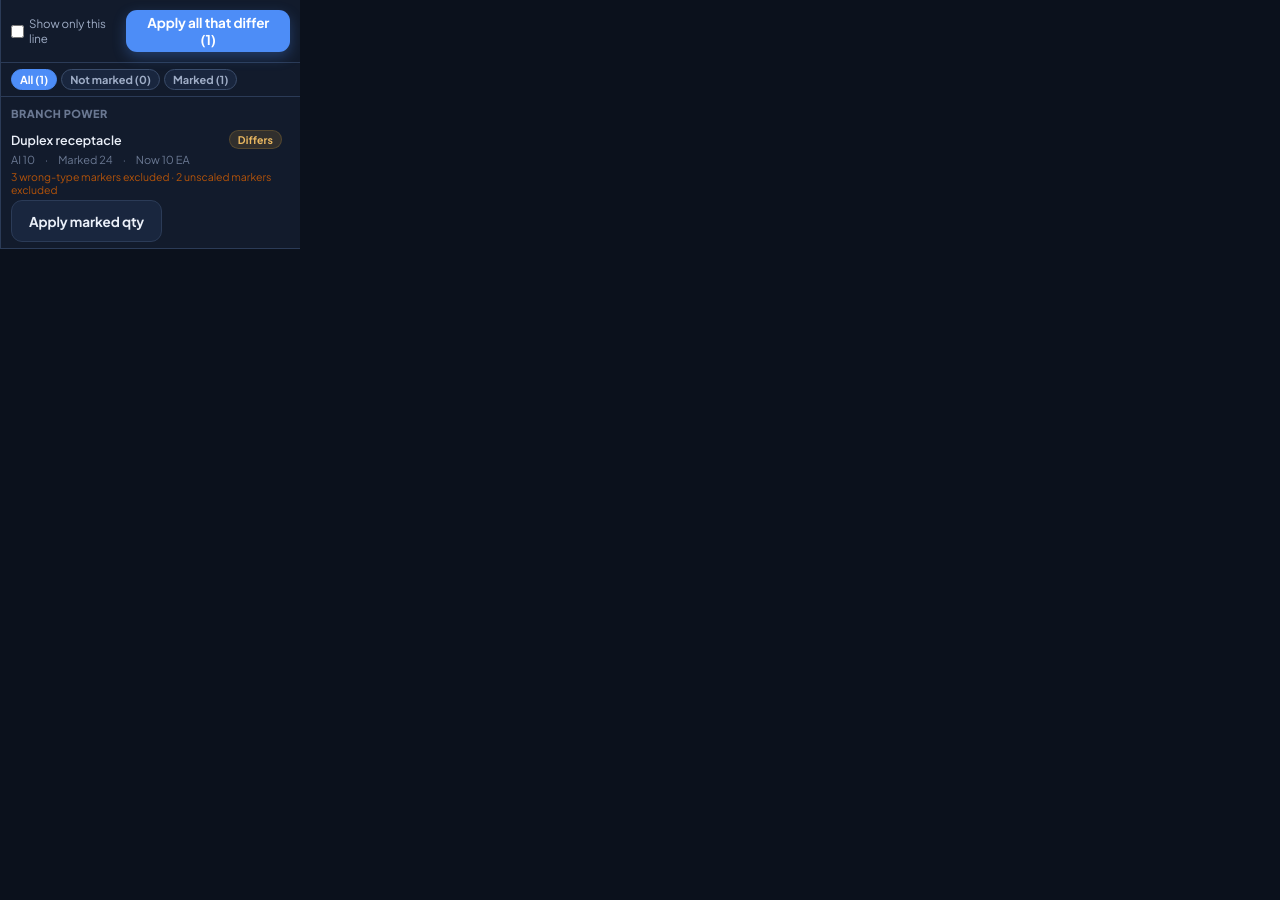
Test: ItemsPanel — apply flow › "Apply all that differ" also warns about excluded markers for any line in the batch
Click the button "Apply all that differ (1)".
click(208, 31)  # box [126, 10, 290, 52]
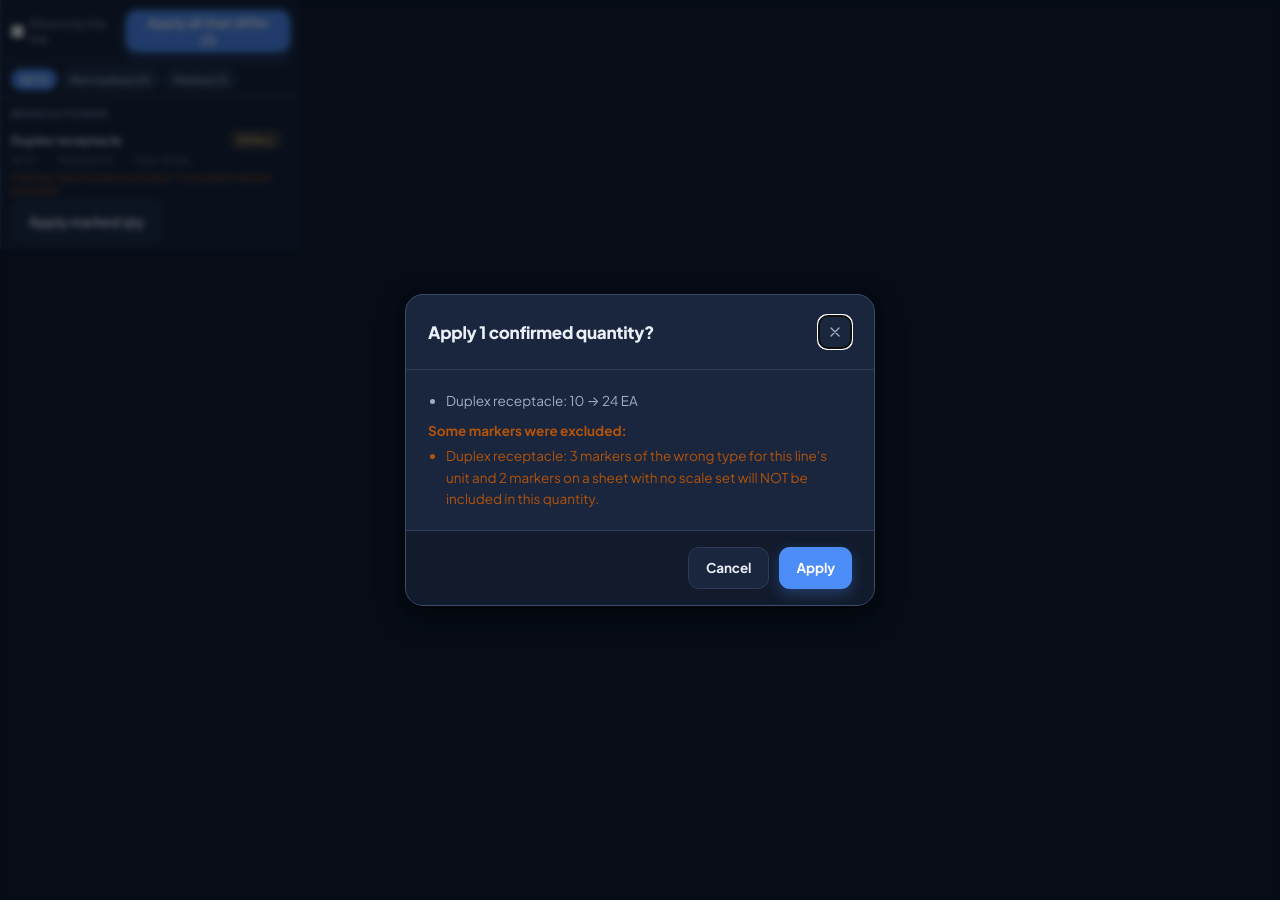
Now the text "Some markers were excluded:" is shown, box [428, 422, 627, 439]
Now the 2nd list item is shown, box [446, 445, 852, 510]
